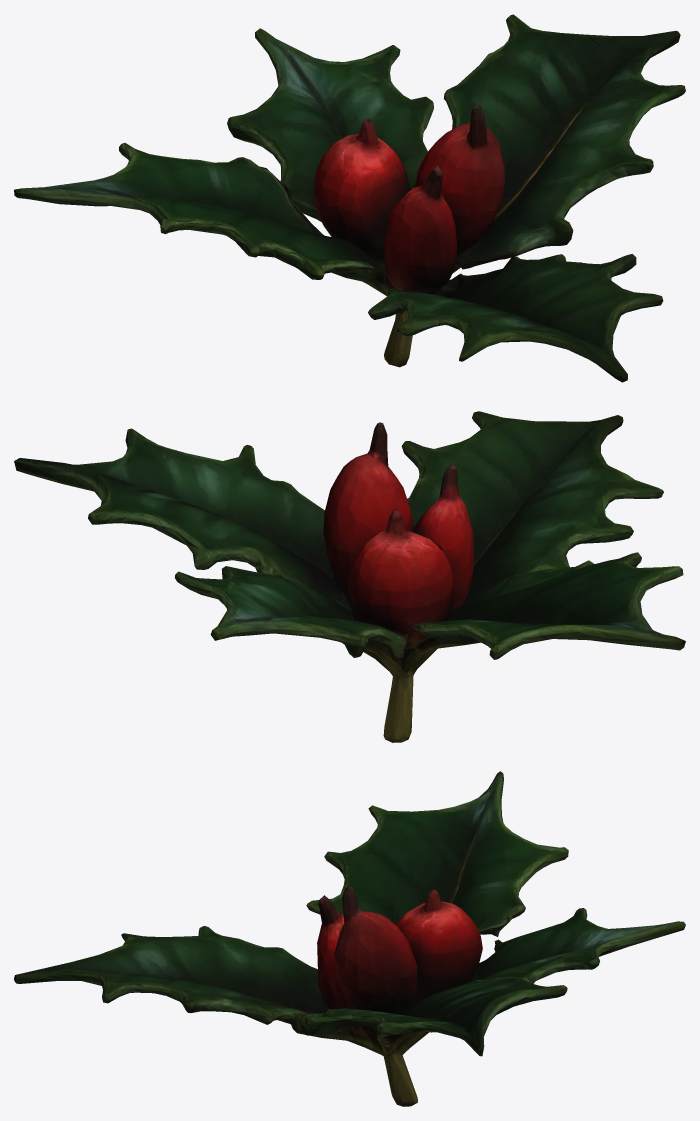
3 renders of one model, top to bottom at view 1: azimuth 30°, elevation 25°; view 2: azimuth 150°, elevation 25°; view 3: azimuth 270°, elevation 25°, orthographic. The views are drawn at different scales.
Parts seen in each view (by area): view 1: world; view 2: world; view 3: world.
Boxes of the visible parts, x1,y1,x2,y2 form: world: (14, 14, 685, 382); world: (14, 411, 685, 742); world: (14, 771, 685, 1106).
Size of the model in its own units: 0.9991 by 0.3946 by 1.
Materials: 1 (1 with a texture image).
